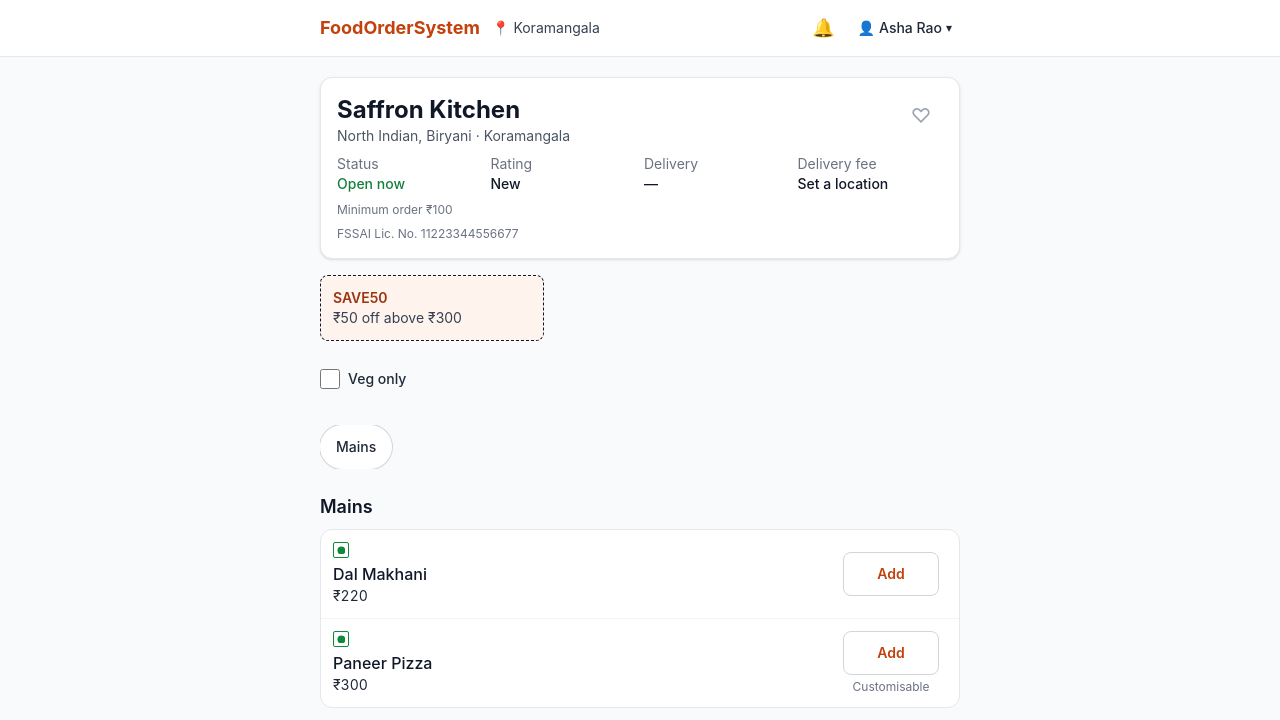
Test: customer ordering journey › enforces a required option in the customisation sheet
Expected: the text "FSSAI Lic. No. 11223344556677" is shown, top-left (337, 226), bottom-right (518, 241)
Expected: the text "SAVE50" is shown, top-left (333, 289), bottom-right (388, 306)
What coordinates should you click on to do the following:
click the button with aria-label "Add Paneer Pizza"
I would click on:
 (891, 653)
Its box is top-left (843, 631), bottom-right (939, 675).
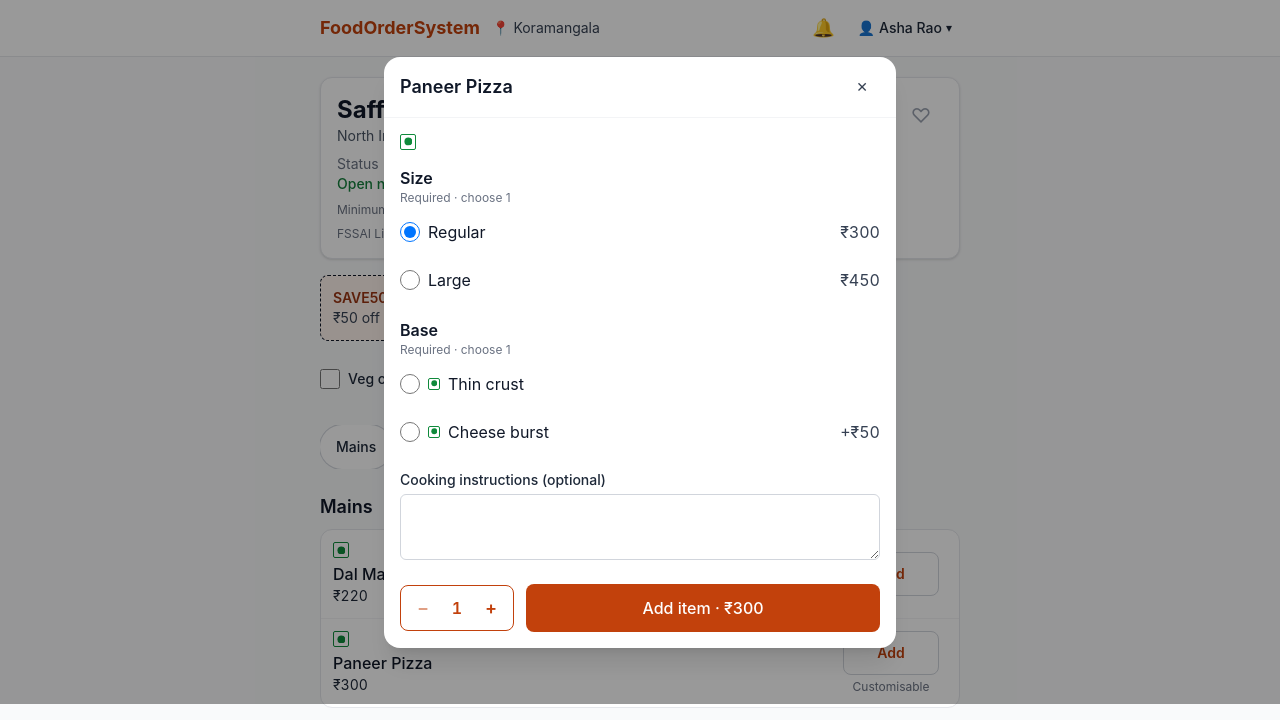
Now the text "Required · choose 1" is shown 2 times, box top-left (400, 190), bottom-right (511, 204); top-left (400, 342), bottom-right (511, 356)
What coordinates should you click on to do the following:
click the button "Add item · ₹300"
I would click on:
 (703, 608)
Its box is top-left (526, 584), bottom-right (880, 632).
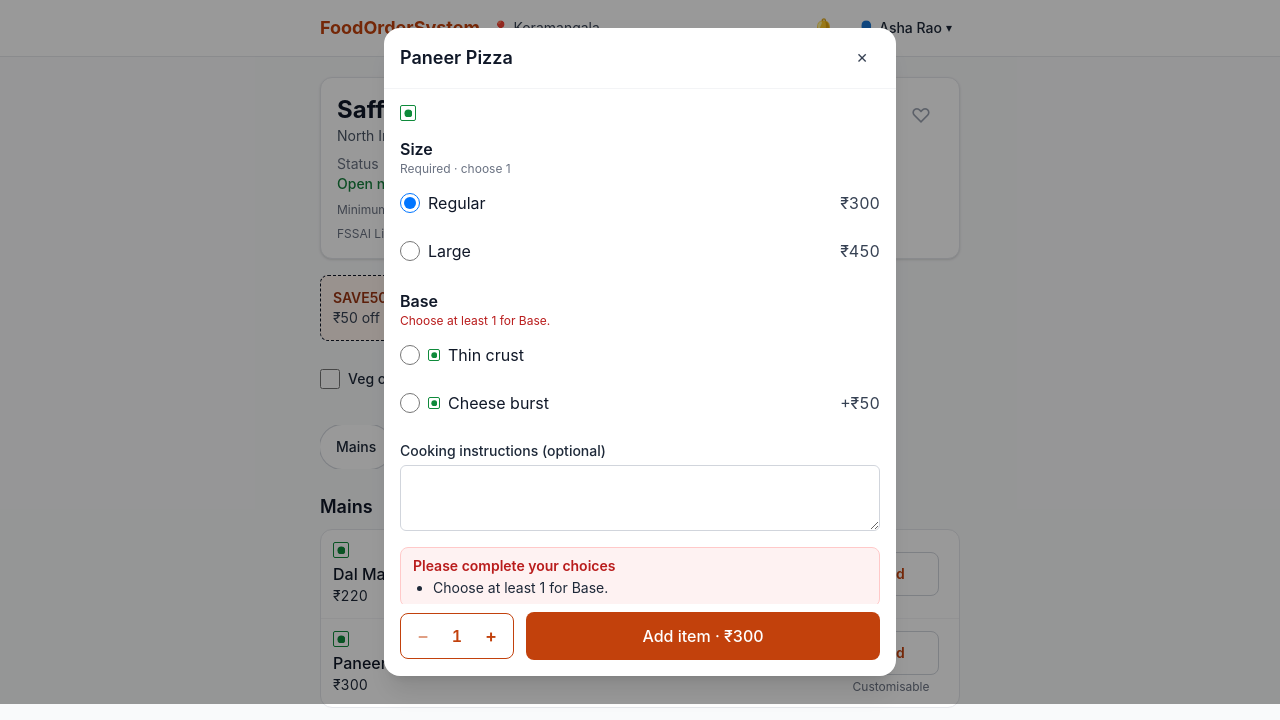
Now the message shows "Choose at least 1 for Base.", box top-left (433, 579), bottom-right (608, 596)
What coordinates should you click on to do the following:
click the radio button labelled "Large ₹450"
I would click on:
 (410, 251)
Its box is top-left (400, 241), bottom-right (420, 261).
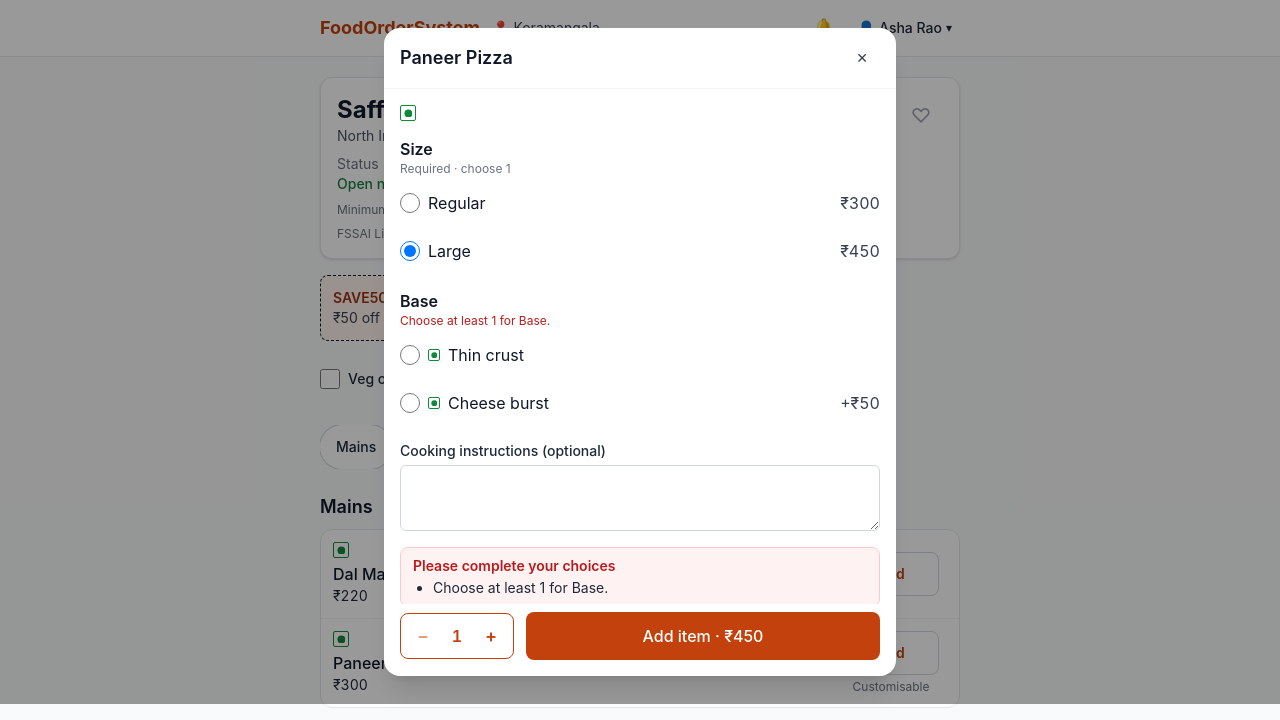
What coordinates should you click on to do the following:
click the radio button labelled "Cheese burst +₹50"
I would click on:
 (410, 403)
Its box is top-left (400, 393), bottom-right (420, 413).
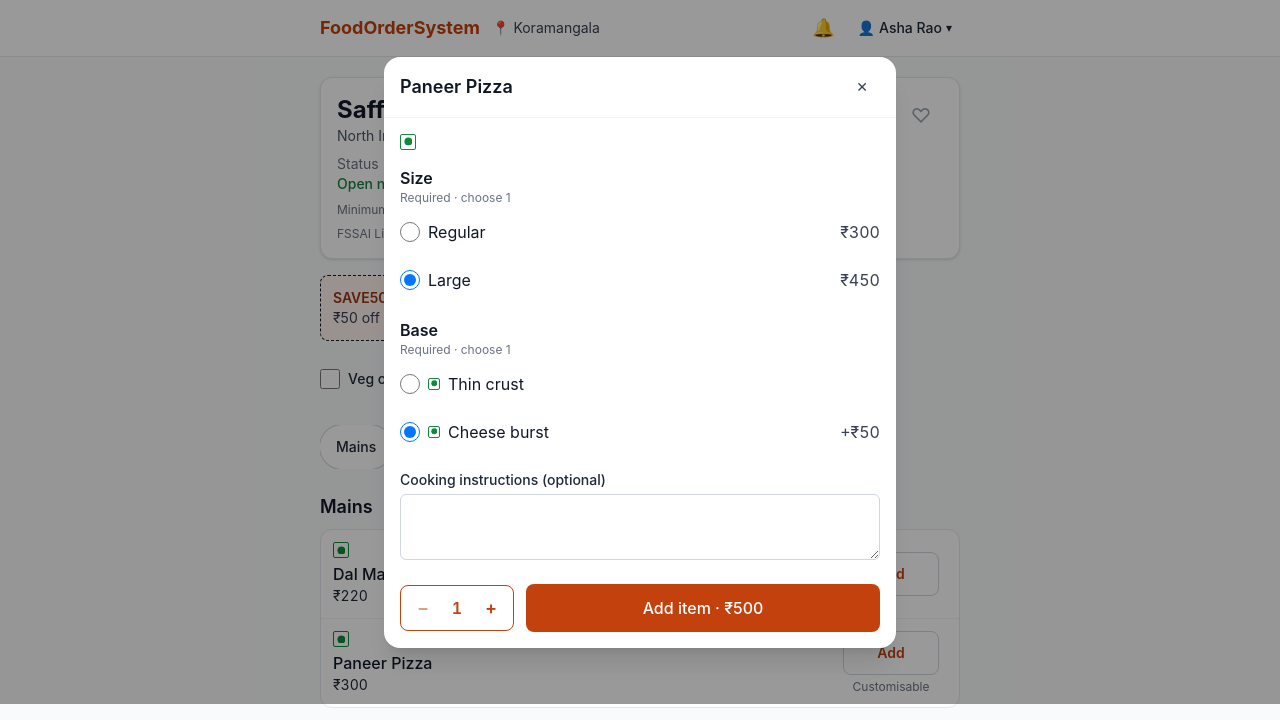
What coordinates should you click on to do the following:
click the button "Add item · ₹500"
I would click on:
 (703, 608)
Its box is top-left (526, 584), bottom-right (880, 632).
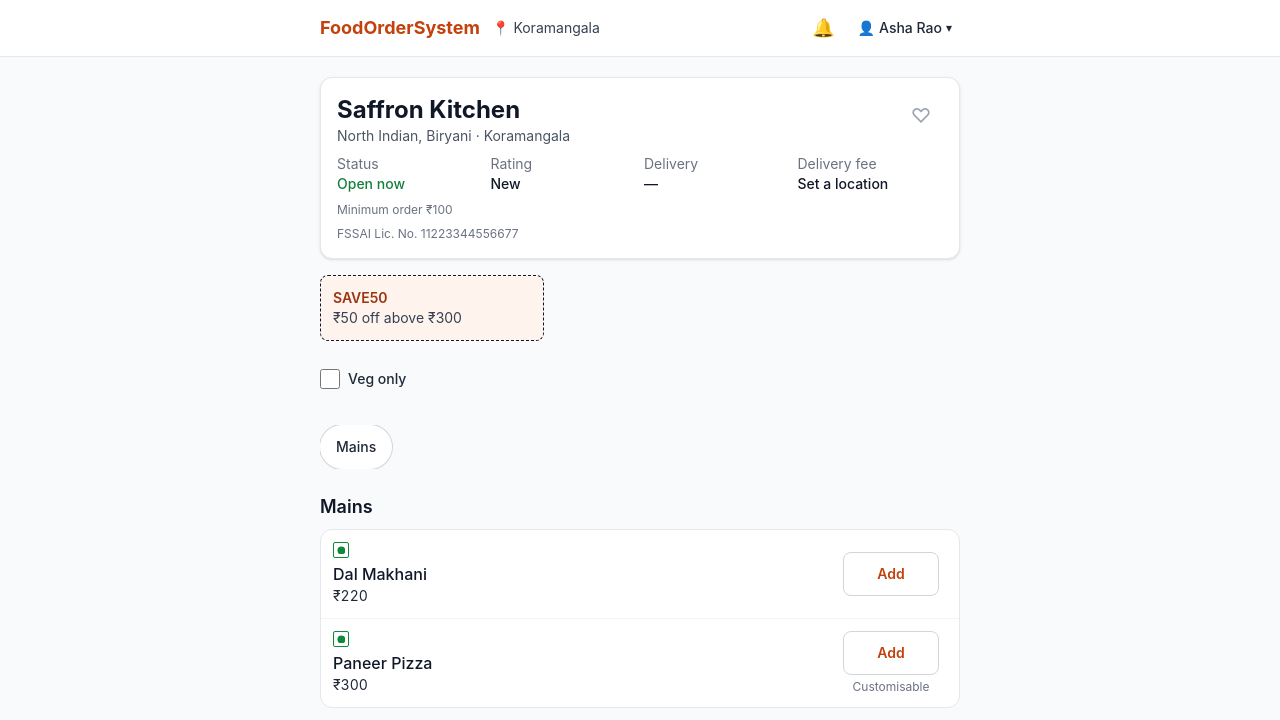
Now the dialog is gone
